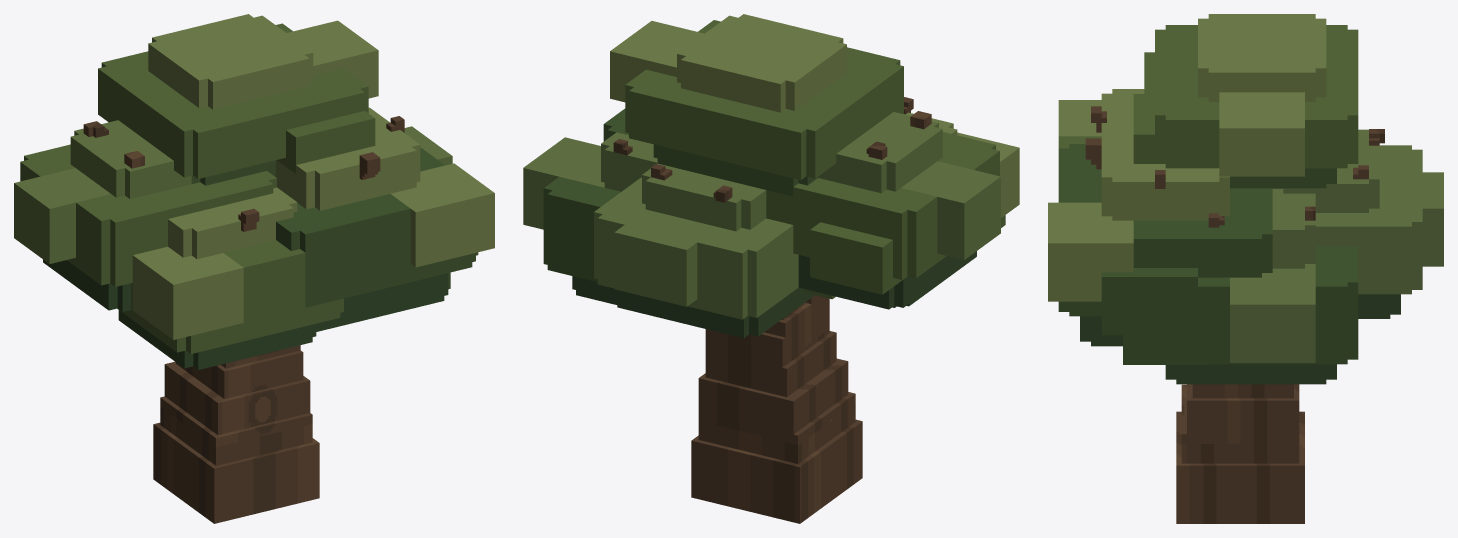
The model's file is apple_mature.glb.
The picture shows the model from 3 angles, left to right: view 1: azimuth 30°, elevation 25°; view 2: azimuth 150°, elevation 25°; view 3: azimuth 270°, elevation 25°; orthographic projection. The views are drawn at different scales.
Visible parts, largest first — view 1: VoxelVisual; view 2: VoxelVisual; view 3: VoxelVisual.
Part boxes in pixels (<box>): VoxelVisual: <box>14,14,494,523</box>; VoxelVisual: <box>523,14,1019,523</box>; VoxelVisual: <box>1048,14,1443,523</box>.
Size of what is drawn, in the model's own units: 11.75 by 11.75 by 9.25.
